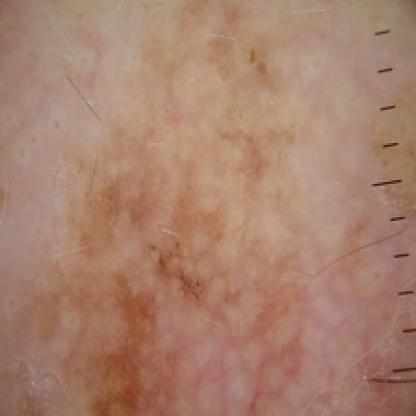malignant: (48, 137, 392, 407)
